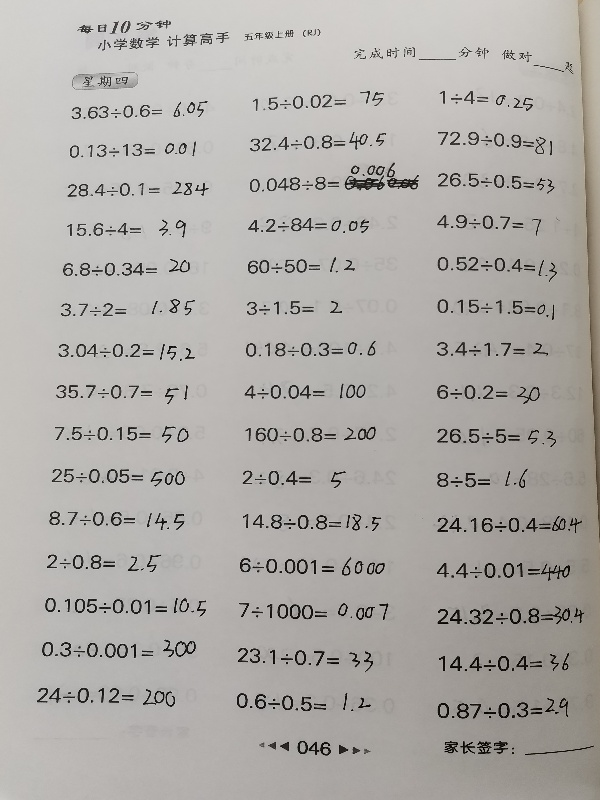equation: (238, 163, 401, 197), (53, 291, 202, 325), (238, 376, 379, 408), (40, 593, 209, 618), (37, 636, 199, 661), (236, 553, 389, 579), (234, 645, 376, 673), (433, 694, 571, 722), (433, 603, 587, 628), (434, 511, 586, 536), (61, 216, 196, 244), (234, 599, 391, 623), (246, 128, 389, 154), (249, 87, 392, 113), (433, 251, 561, 280), (236, 462, 351, 494), (232, 690, 379, 715), (33, 683, 179, 708), (239, 510, 385, 535), (52, 381, 191, 407), (45, 507, 187, 532), (433, 558, 573, 583), (48, 464, 188, 489), (236, 291, 352, 321), (54, 339, 198, 363), (67, 99, 211, 123), (436, 650, 573, 675), (51, 423, 193, 447), (241, 337, 379, 361), (64, 178, 212, 200), (433, 128, 557, 154), (44, 551, 165, 577), (433, 295, 558, 320), (58, 256, 193, 279), (240, 423, 379, 445), (433, 424, 560, 448), (434, 170, 558, 194), (245, 214, 373, 237), (432, 380, 543, 406), (430, 467, 535, 494), (65, 139, 199, 160), (433, 211, 544, 236), (243, 254, 358, 277), (434, 337, 552, 359), (436, 88, 537, 111)
